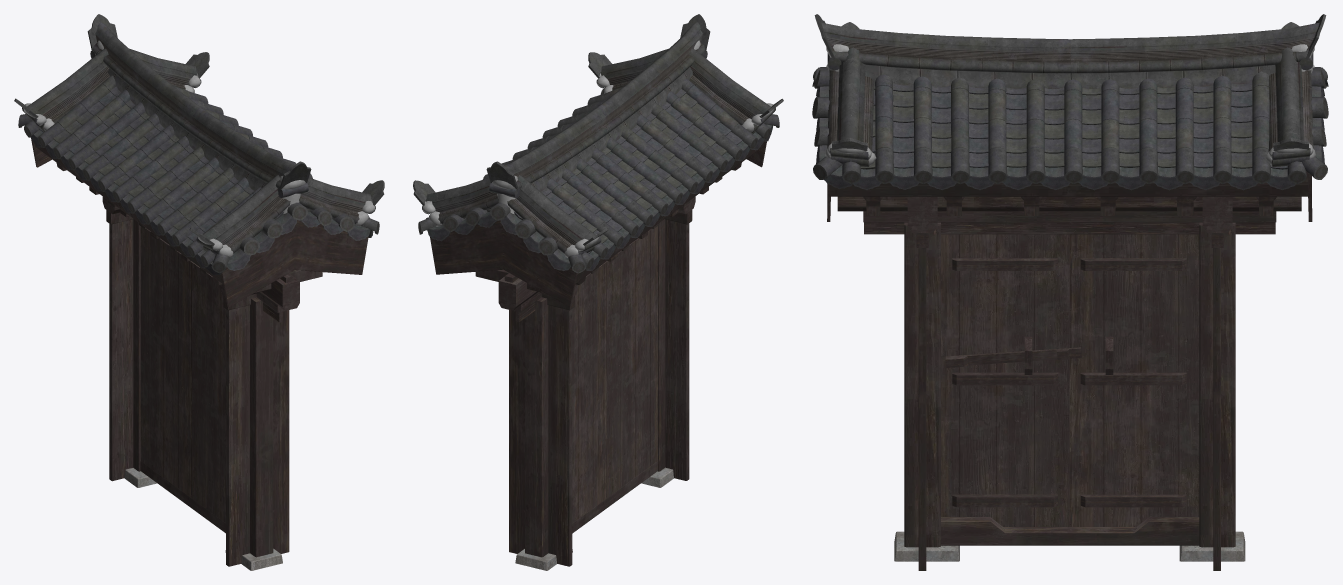
File: gate-small.glb
The picture shows the model from 3 angles, left to right: view 1: azimuth 30°, elevation 25°; view 2: azimuth 150°, elevation 25°; view 3: azimuth 270°, elevation 25°; orthographic projection. The views are drawn at different scales.
Visible parts, largest first — view 1: Small_Gate_Roof_Concrete_01_mat_0, Small_Gate_Pillar_Wood_01_mat_0, Small_Gate_Module_Wood_01_mat_0, Small_Gate_Floor_Concrete_01_m_0; view 2: Small_Gate_Roof_Concrete_01_mat_0, Small_Gate_Pillar_Wood_01_mat_0, Small_Gate_Module_Wood_01_mat_0, Small_Gate_Floor_Concrete_01_m_0; view 3: Small_Gate_Roof_Concrete_01_mat_0, Small_Gate_Module_Wood_01_mat_0, Small_Gate_Pillar_Wood_01_mat_0, Small_Gate_Floor_Concrete_01_m_0.
Part boxes in pixels (box(x1,y1,x2,y2)): Small_Gate_Roof_Concrete_01_mat_0: box(14, 14, 384, 275); Small_Gate_Pillar_Wood_01_mat_0: box(31, 138, 368, 566); Small_Gate_Module_Wood_01_mat_0: box(102, 196, 299, 522); Small_Gate_Floor_Concrete_01_m_0: box(124, 468, 282, 570); Small_Gate_Roof_Concrete_01_mat_0: box(413, 14, 783, 273); Small_Gate_Pillar_Wood_01_mat_0: box(430, 141, 766, 566); Small_Gate_Module_Wood_01_mat_0: box(498, 196, 695, 523); Small_Gate_Floor_Concrete_01_m_0: box(515, 467, 673, 570); Small_Gate_Roof_Concrete_01_mat_0: box(812, 14, 1328, 190); Small_Gate_Module_Wood_01_mat_0: box(907, 196, 1232, 526); Small_Gate_Pillar_Wood_01_mat_0: box(827, 171, 1312, 570); Small_Gate_Floor_Concrete_01_m_0: box(894, 531, 1245, 561).
Size of the model in its own units: 3.14 by 6.62 by 5.75.
4 materials, 4 textured.
